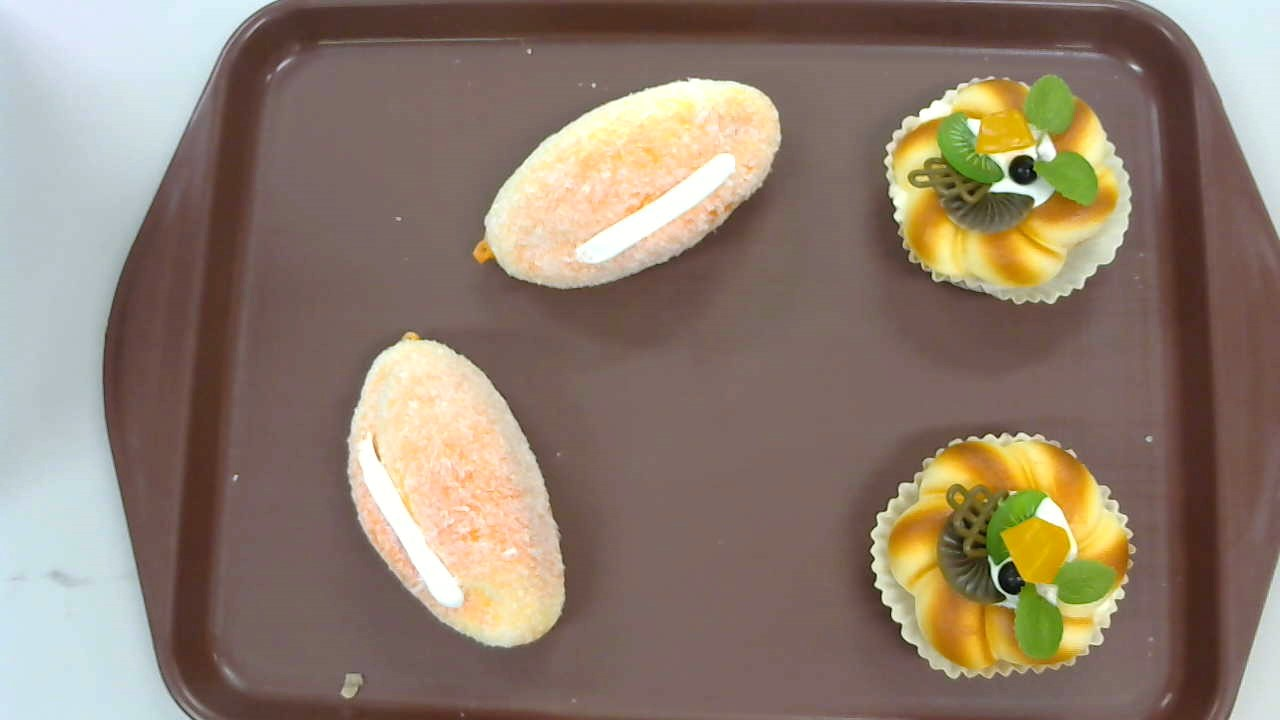coconut: (347, 332, 567, 649), (473, 76, 785, 291)
fruit tart: (870, 432, 1135, 678), (883, 73, 1131, 306)
